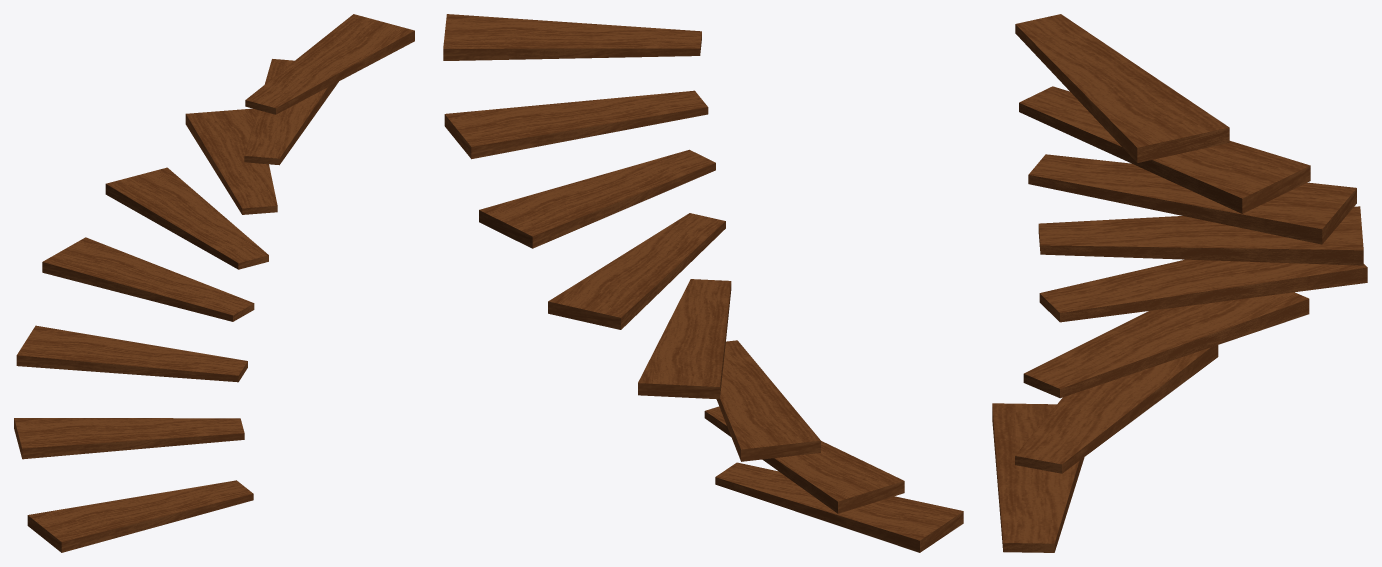
The model's file is steps.gltf.
3 views of the same model, side by side, from view 1: azimuth 30°, elevation 25°; view 2: azimuth 150°, elevation 25°; view 3: azimuth 270°, elevation 25° (orthographic). The views are drawn at different scales.
Parts seen in each view (by area): view 1: Wall Textures Bake.063; view 2: Wall Textures Bake.063; view 3: Wall Textures Bake.063.
Boxes of the visible parts, <box> form: Wall Textures Bake.063: <box>14,14,414,552</box>; Wall Textures Bake.063: <box>443,14,963,552</box>; Wall Textures Bake.063: <box>992,14,1367,552</box>.
Bounding box in the file's own units: 4.36 × 3.98 × 2.45.
Materials: 1 (1 with a texture image).
